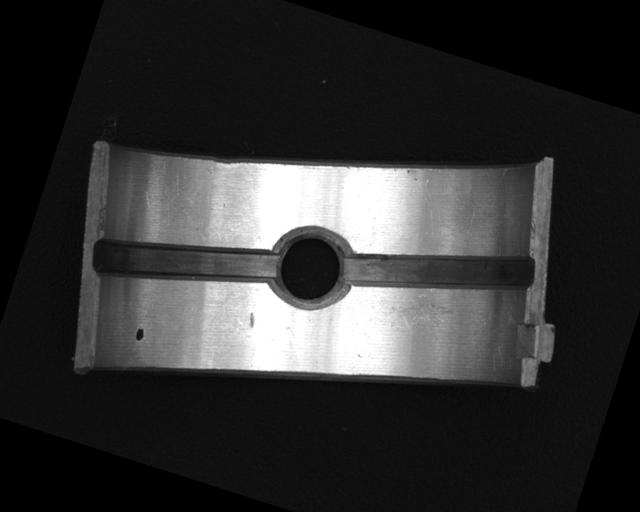blot: (132, 324, 147, 343)
bruise: (244, 311, 256, 329)
gap: (338, 207, 538, 337), (88, 201, 280, 324)
hole: (259, 219, 362, 321)
scratch: (375, 282, 469, 346)
